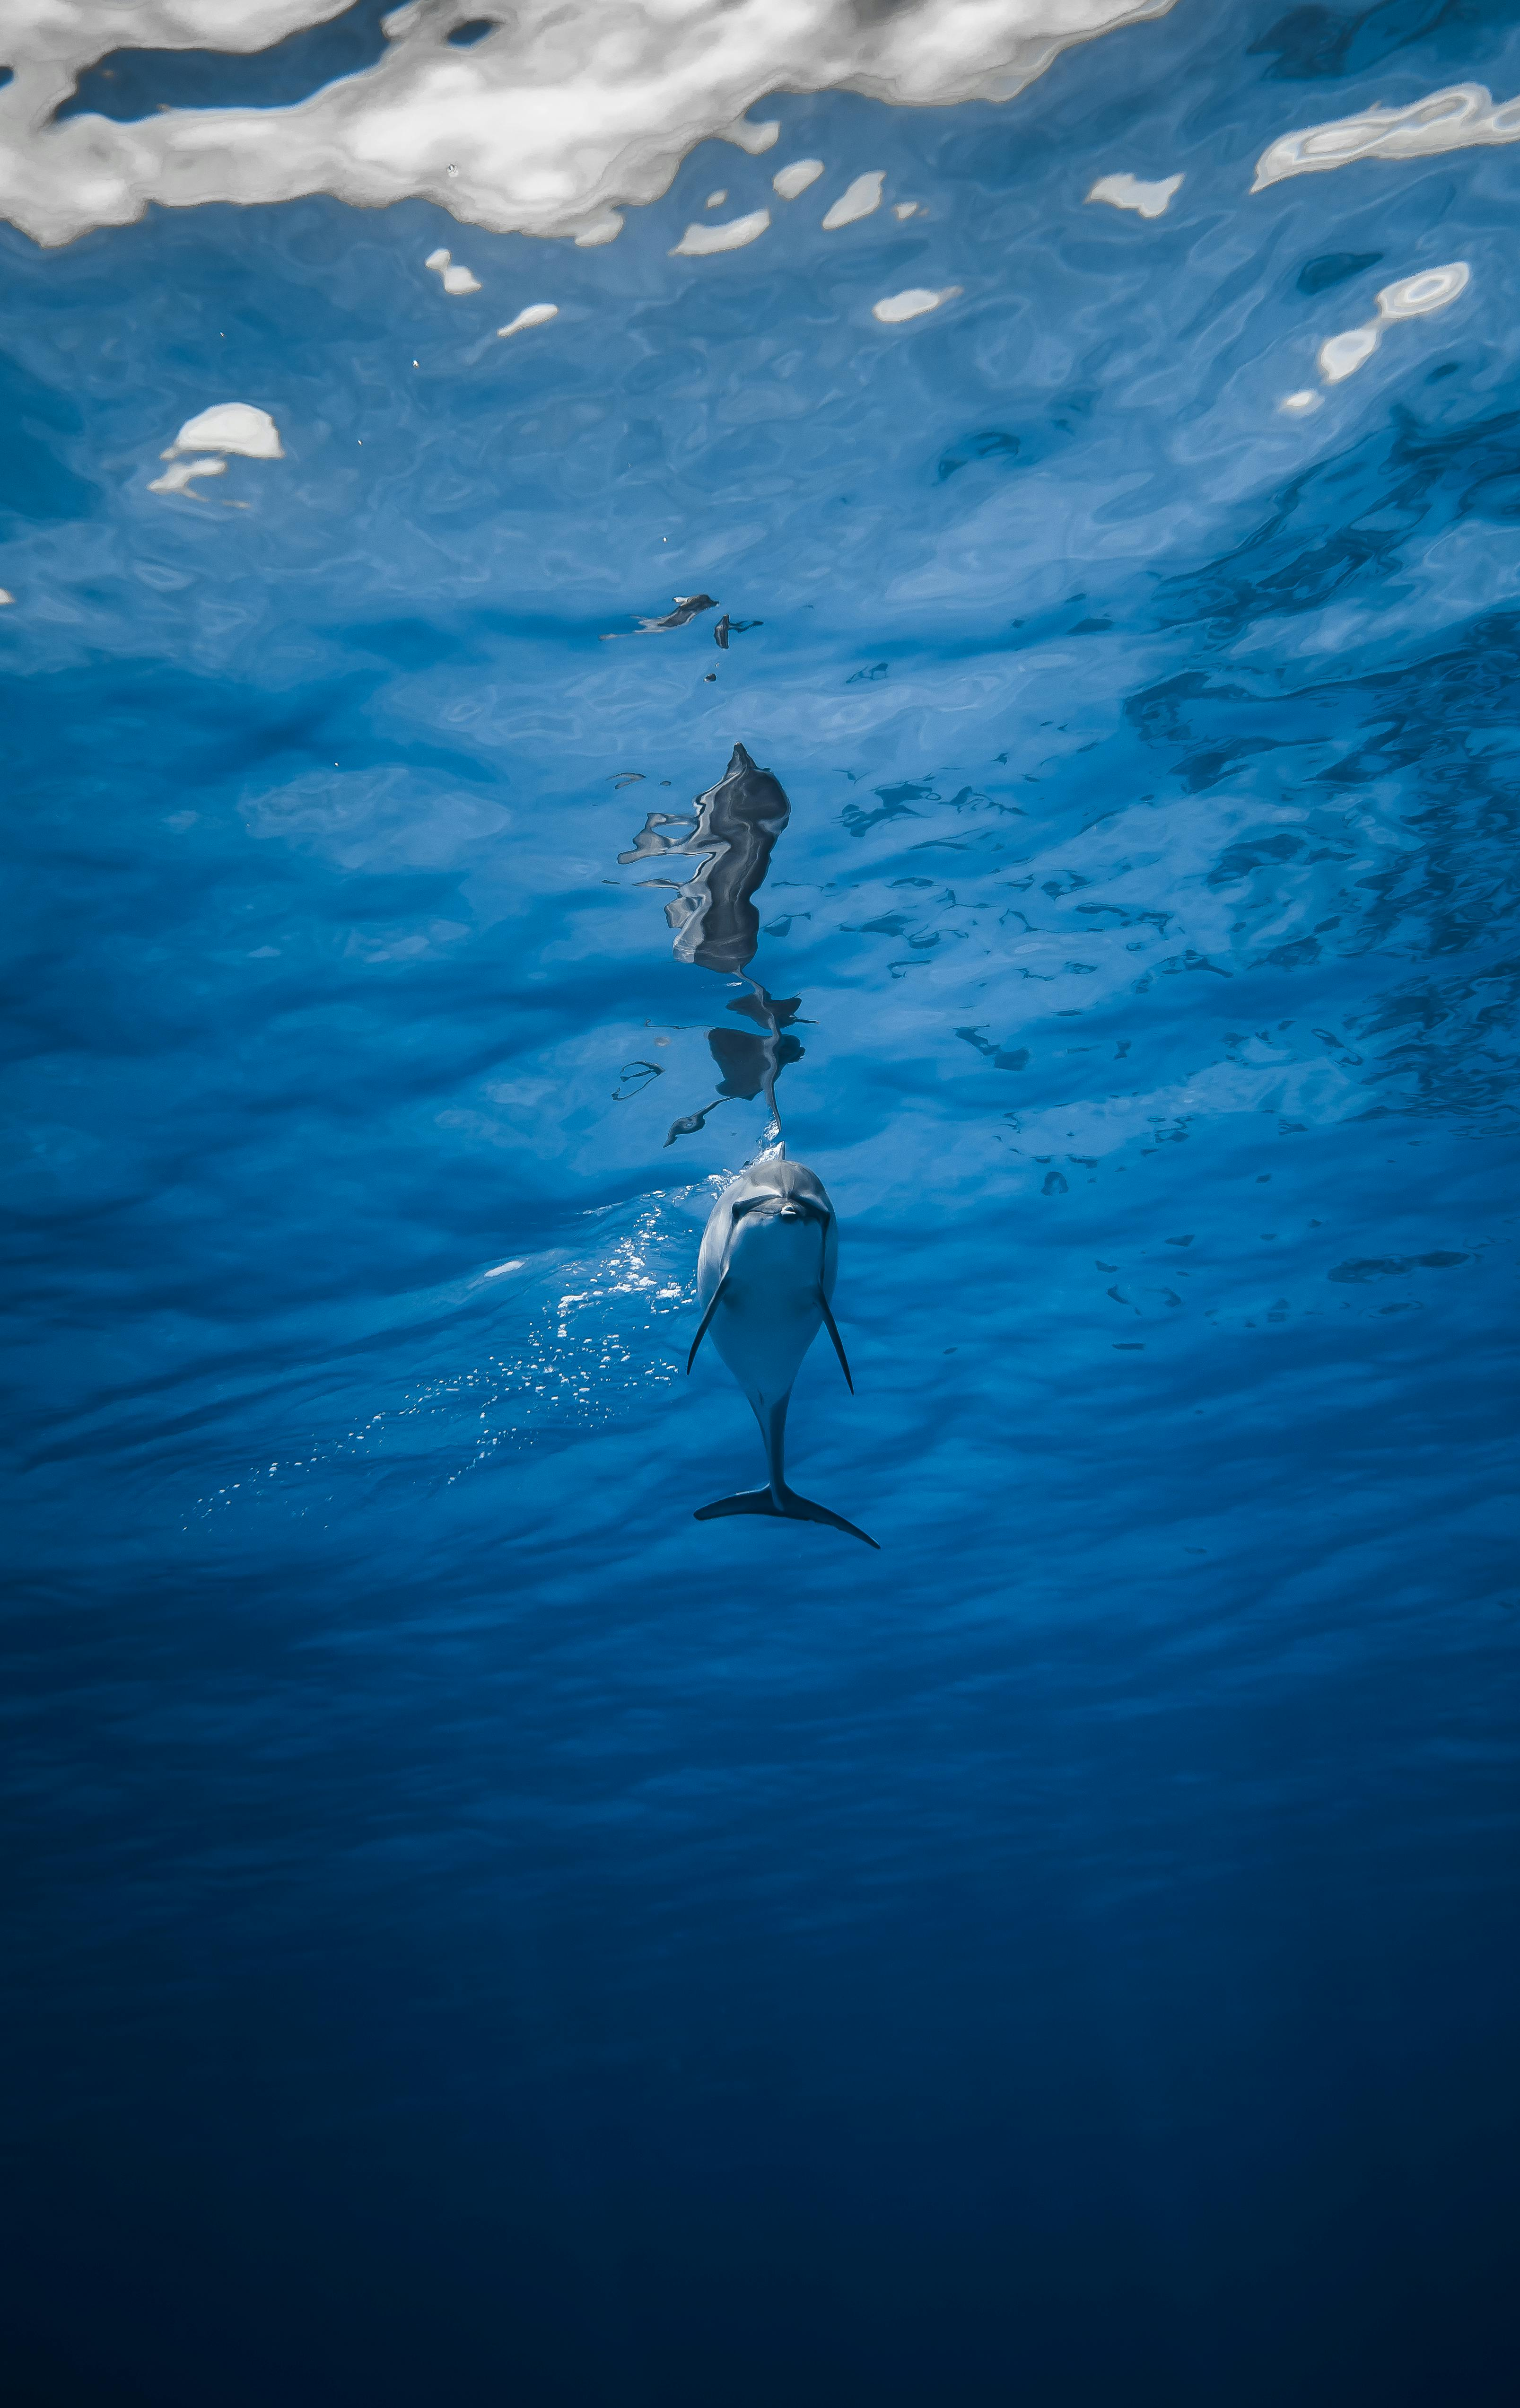dolphin: (671, 1105, 883, 1557)
